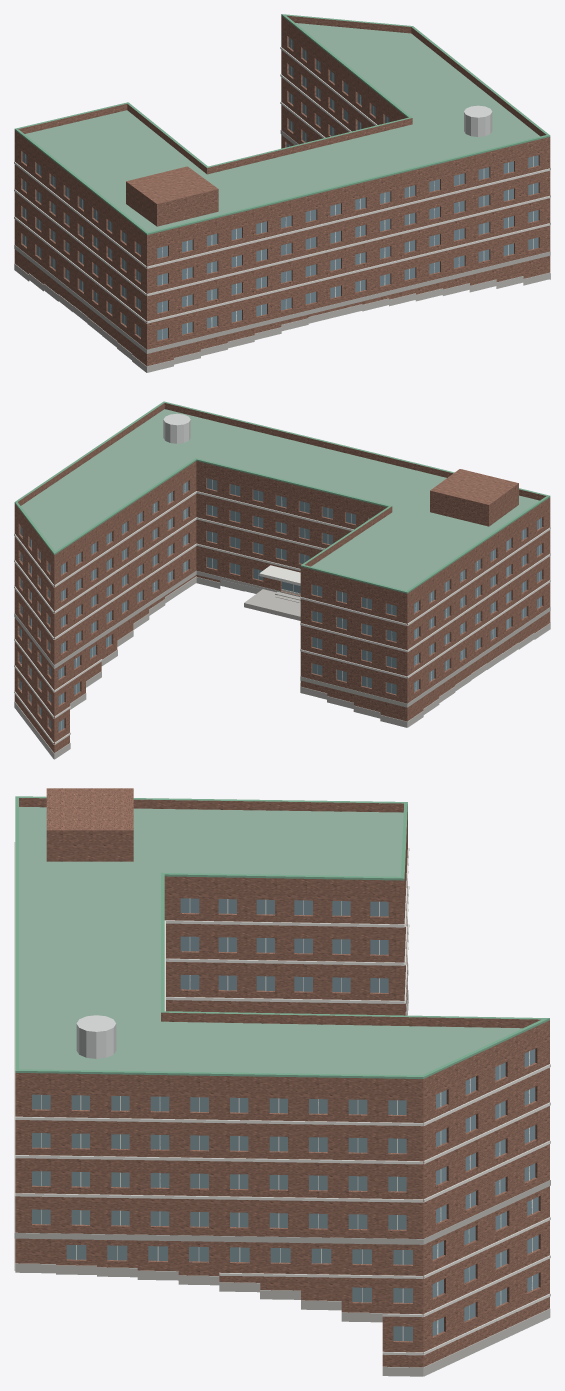
The picture shows the model from 3 angles, top to bottom: view 1: azimuth 30°, elevation 25°; view 2: azimuth 150°, elevation 25°; view 3: azimuth 270°, elevation 25°; orthographic projection. The views are drawn at different scales.
Visible parts, largest first — view 1: D9J red brown brick, D9J green roof, D9J blue grey glass, D9J white slab bands, D9J green parapet coping, D9J concrete base course, D9J granite plinth and paving, D9J white window frames, D9J rooftop water tank; view 2: D9J red brown brick, D9J green roof, D9J blue grey glass, D9J white slab bands, D9J concrete base course, D9J green parapet coping, D9J granite plinth and paving, D9J white window frames, D9J rooftop water tank, D9J white entrance canopy; view 3: D9J red brown brick, D9J green roof, D9J blue grey glass, D9J white slab bands, D9J green parapet coping, D9J concrete base course, D9J granite plinth and paving, D9J white window frames, D9J rooftop water tank.
Boxes of the visible parts, x1=… form: D9J red brown brick: x1=14, y1=15, x2=550, y2=366; D9J green roof: x1=25, y1=23, x2=539, y2=231; D9J blue grey glass: x1=22, y1=37, x2=538, y2=340; D9J white slab bands: x1=14, y1=47, x2=550, y2=323; D9J green parapet coping: x1=14, y1=14, x2=550, y2=234; D9J concrete base course: x1=14, y1=263, x2=550, y2=372; D9J granite plinth and paving: x1=14, y1=130, x2=550, y2=353; D9J white window frames: x1=25, y1=39, x2=533, y2=339; D9J rooftop water tank: x1=464, y1=105, x2=492, y2=136; D9J red brown brick: x1=14, y1=403, x2=550, y2=752; D9J green roof: x1=21, y1=409, x2=539, y2=590; D9J blue grey glass: x1=19, y1=478, x2=541, y2=731; D9J white slab bands: x1=14, y1=491, x2=550, y2=744; D9J concrete base course: x1=14, y1=576, x2=550, y2=759; D9J green parapet coping: x1=14, y1=401, x2=550, y2=593; D9J granite plinth and paving: x1=14, y1=570, x2=550, y2=707; D9J white window frames: x1=21, y1=479, x2=539, y2=730; D9J rooftop water tank: x1=163, y1=413, x2=190, y2=443; D9J white entrance canopy: x1=259, y1=565, x2=300, y2=585; D9J red brown brick: x1=15, y1=788, x2=549, y2=1367; D9J green roof: x1=19, y1=807, x2=522, y2=1075; D9J blue grey glass: x1=32, y1=898, x2=538, y2=1341; D9J white slab bands: x1=14, y1=842, x2=550, y2=1355; D9J green parapet coping: x1=15, y1=796, x2=549, y2=1078; D9J concrete base course: x1=14, y1=990, x2=550, y2=1376; D9J granite plinth and paving: x1=14, y1=964, x2=550, y2=1244; D9J white window frames: x1=41, y1=898, x2=532, y2=1341; D9J rooftop water tank: x1=76, y1=1015, x2=116, y2=1058.
Size of the model in its own units: 53.75 by 28.61 by 43.27.
10 materials, 1 textured.
